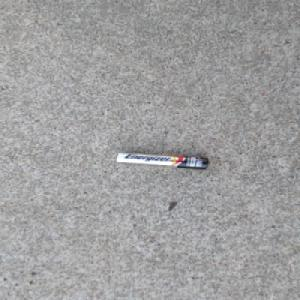Battery: (112, 151, 211, 170)
